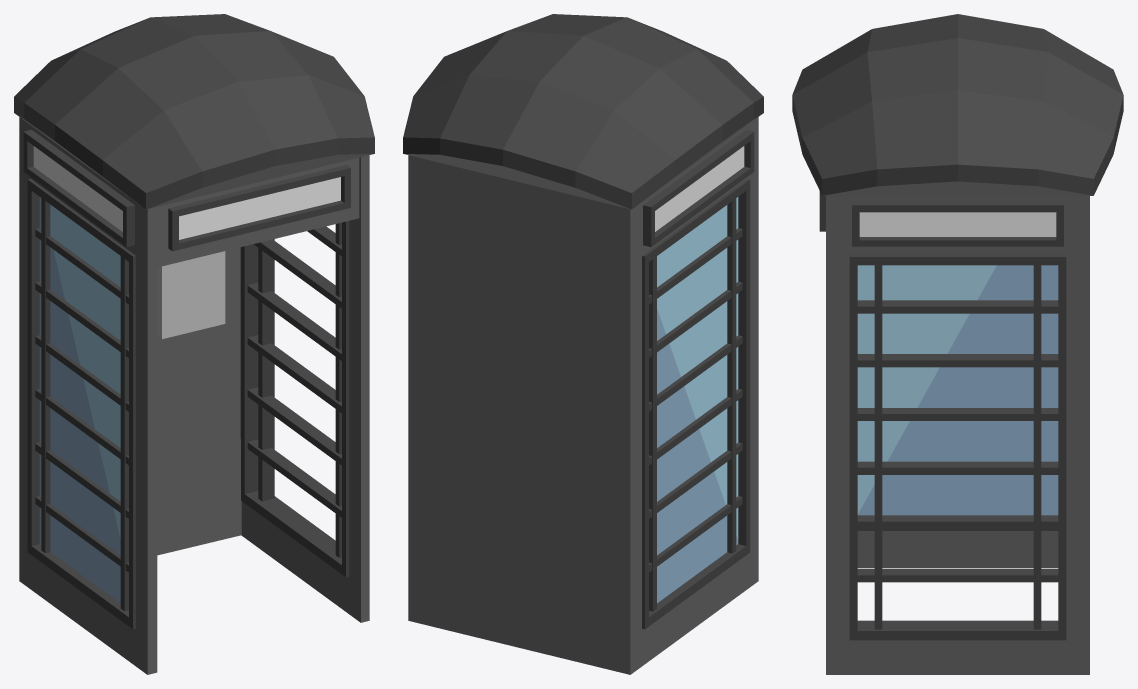
Rendered from phone_box_001.glb.
3 views of the same model, side by side, from view 1: azimuth 30°, elevation 25°; view 2: azimuth 150°, elevation 25°; view 3: azimuth 270°, elevation 25° (orthographic). The views are drawn at different scales.
Parts seen in each view (by area): view 1: phone_box_001; view 2: phone_box_001; view 3: phone_box_001.
Boxes of the visible parts, bbox=[...] form: phone_box_001: bbox=[14, 14, 374, 674]; phone_box_001: bbox=[403, 14, 763, 674]; phone_box_001: bbox=[792, 14, 1123, 674].
Size of the model in its own units: 1.14 by 2.21 by 1.14.
Materials: 1 (1 with a texture image).
